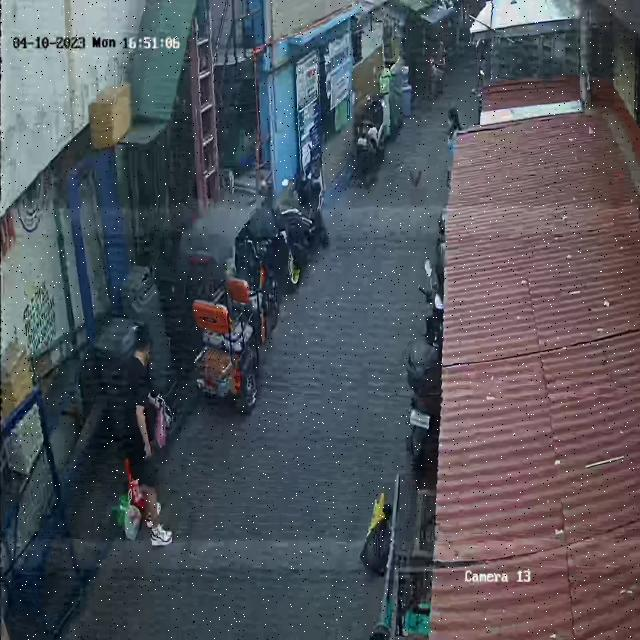garbage_dumping: (358, 485, 392, 578), (115, 479, 142, 540), (149, 387, 173, 454)
